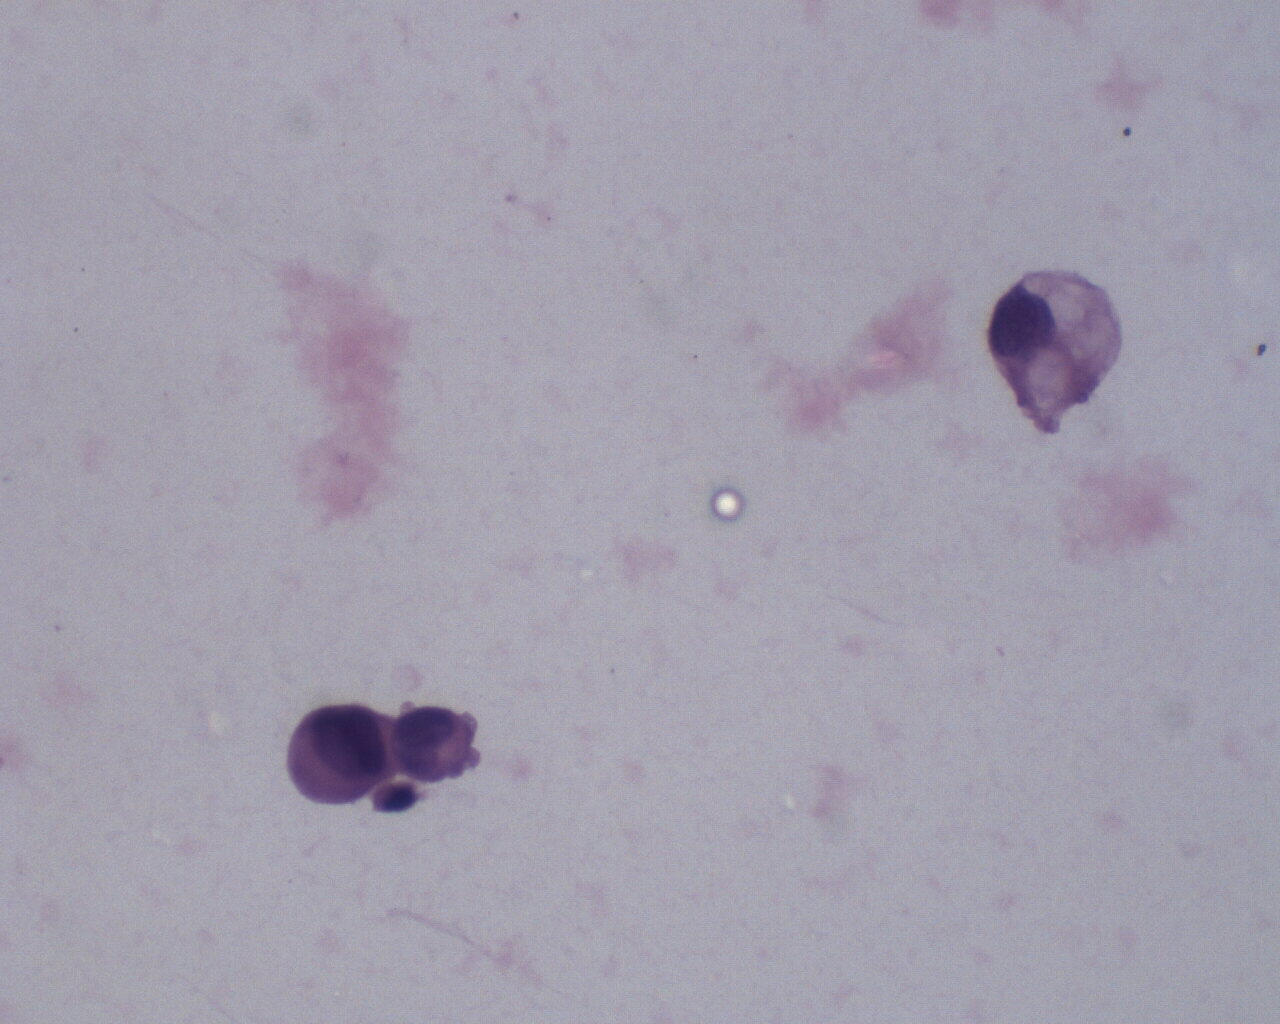ab: (985, 267, 1131, 440), (280, 700, 395, 816), (388, 699, 480, 788)
